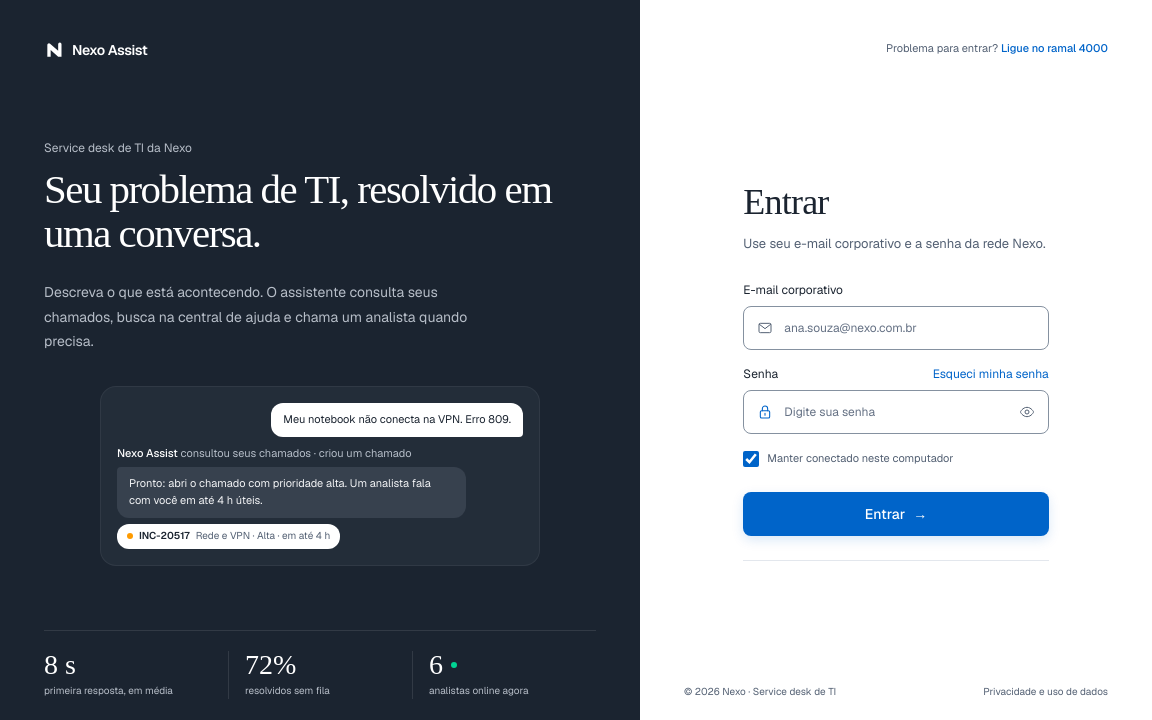
it: LoginScreen › permite mostrar e ocultar a senha usando o teclado sem perder o valor
The image size is (1152, 720).
In the password field labelled "Senha": (896, 412) [743,390,1049,434], type "senha-de-exemplo"
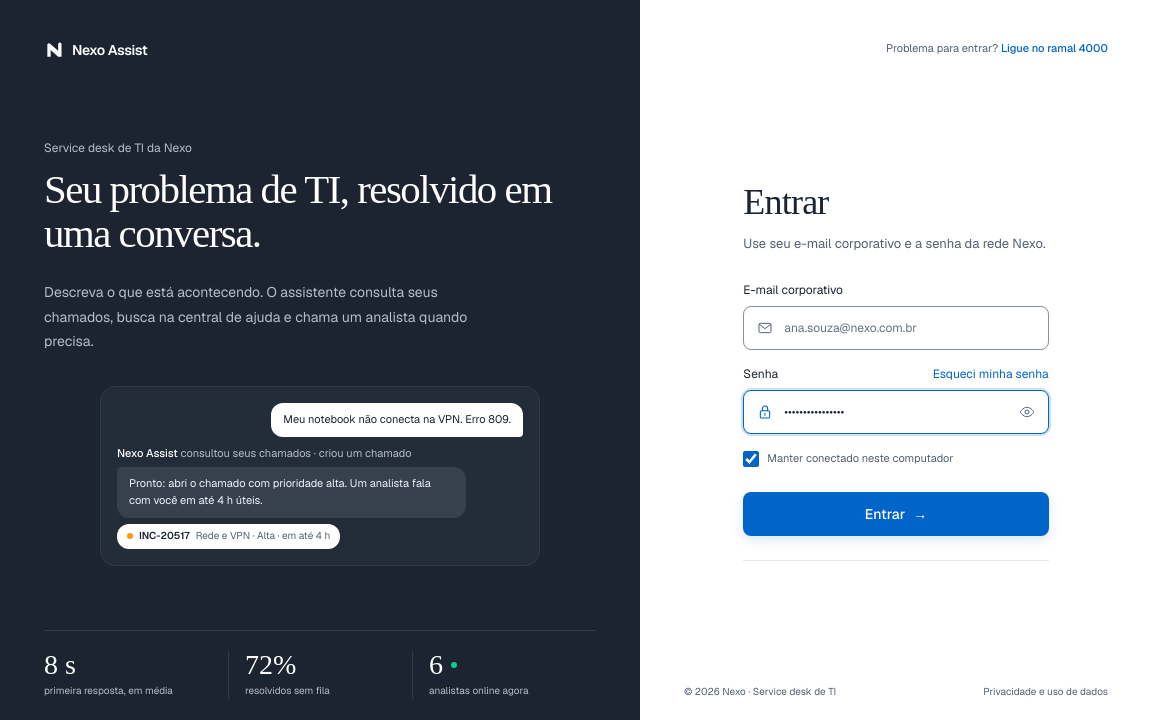
Press Tab
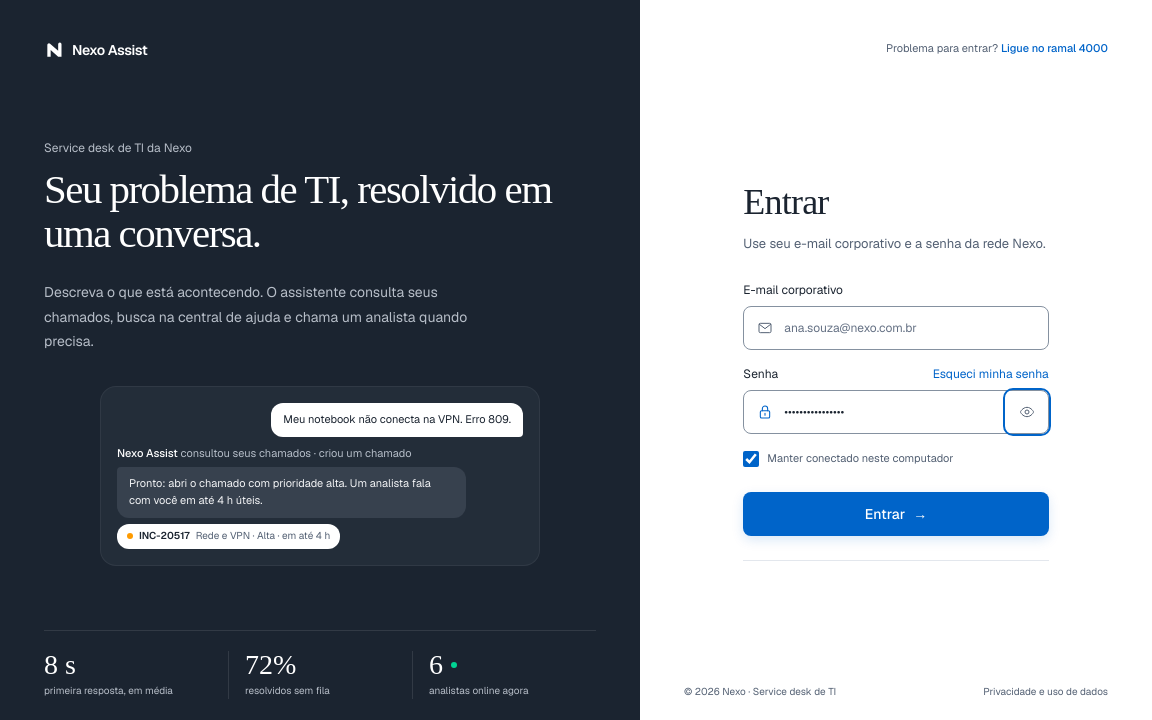
Press Enter
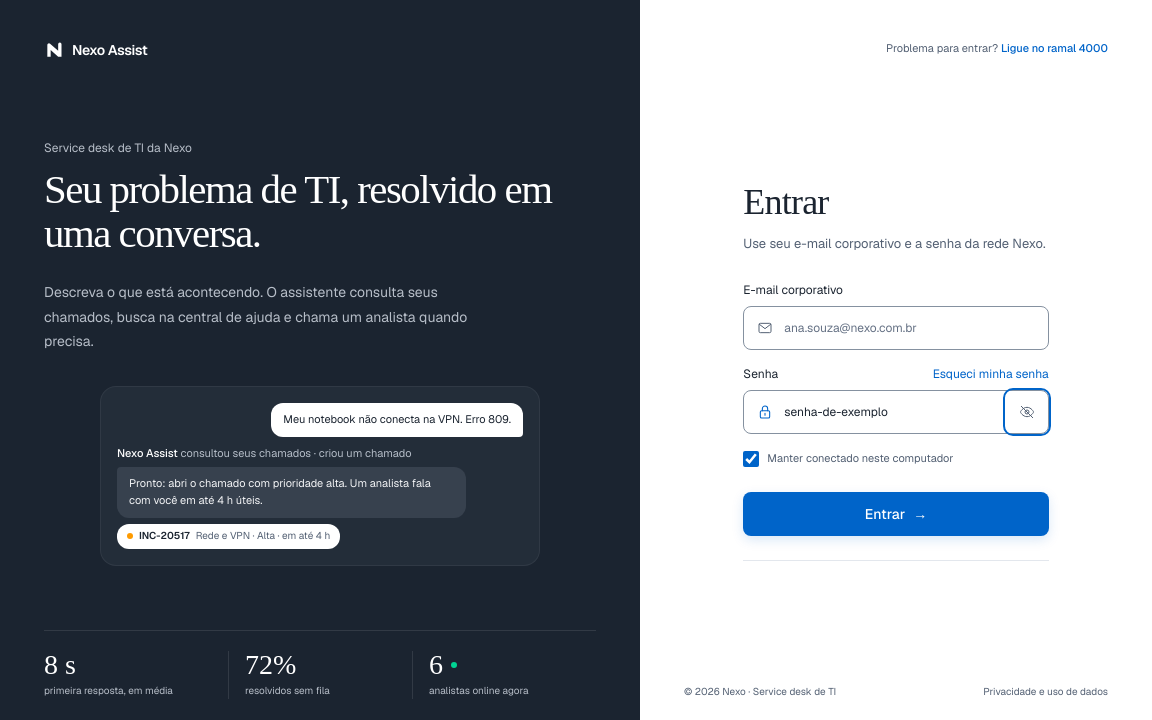
Check: the field labelled "Senha" shows its text, box [743,390,1049,434]
Type keys " "
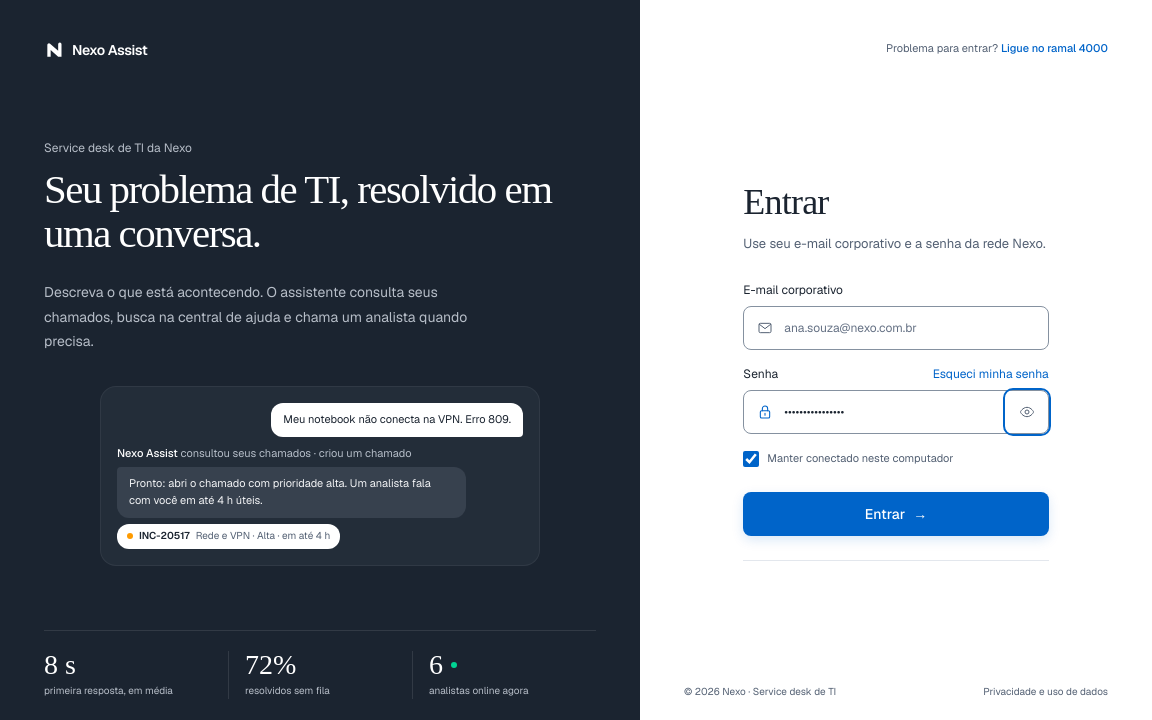
Check: the password field labelled "Senha" hides its text, box [743,390,1049,434]
